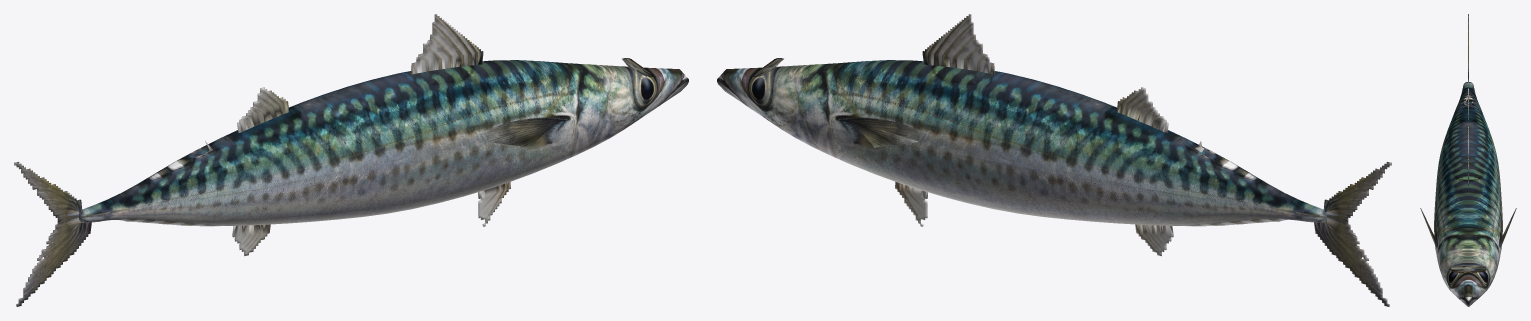
The model's file is atlantic_chub_mackerel.glb.
The picture shows the model from 3 angles, left to right: view 1: azimuth 30°, elevation 25°; view 2: azimuth 150°, elevation 25°; view 3: azimuth 270°, elevation 25°; orthographic projection. The views are drawn at different scales.
Parts seen in each view (by area): view 1: atlantic_chub_mackerel_realistic; view 2: atlantic_chub_mackerel_realistic; view 3: atlantic_chub_mackerel_realistic.
Boxes of the visible parts, x1,y1,x2,y2 form: atlantic_chub_mackerel_realistic: (14,14,688,306); atlantic_chub_mackerel_realistic: (717,14,1391,306); atlantic_chub_mackerel_realistic: (1420,14,1516,306).
Size of the model in its own units: 1 by 0.317 by 0.1763.
3 materials, 3 textured.
